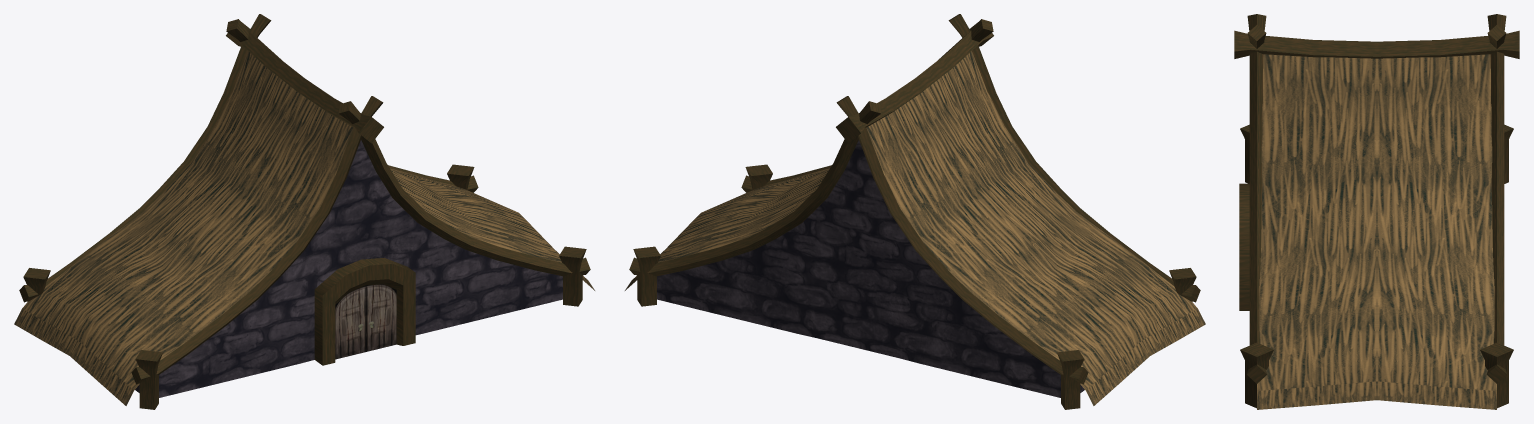
The model's file is SM_Hut.glb.
3 renders of one model, left to right at view 1: azimuth 30°, elevation 25°; view 2: azimuth 150°, elevation 25°; view 3: azimuth 270°, elevation 25°, orthographic. The views are drawn at different scales.
Visible parts, largest first — view 1: SM_Hut; view 2: SM_Hut; view 3: SM_Hut.
Part boxes in pixels (box(x1,y1,x2,y2)): SM_Hut: box(14, 14, 594, 409); SM_Hut: box(625, 14, 1205, 409); SM_Hut: box(1234, 14, 1519, 409).
Bounding box in the file's own units: 4.41 × 2.29 × 2.16.
Materials: 1 (1 with a texture image).
